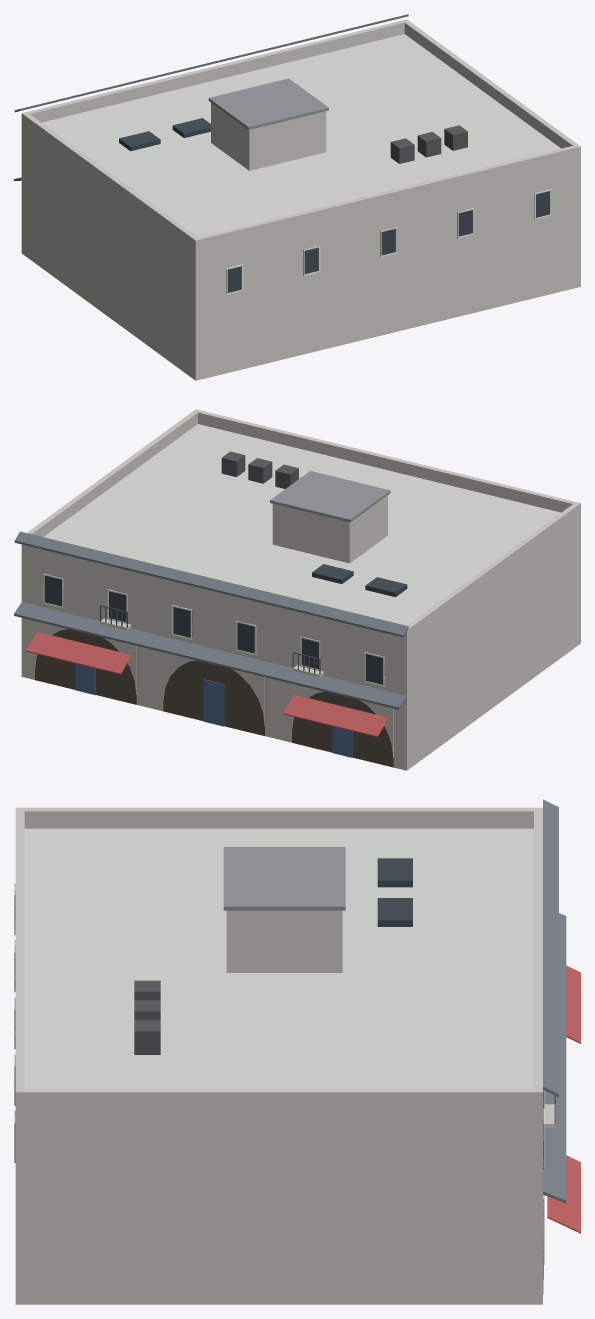
File: ca_mainstreet2.glb
The picture shows the model from 3 angles, top to bottom: view 1: azimuth 30°, elevation 25°; view 2: azimuth 150°, elevation 25°; view 3: azimuth 270°, elevation 25°; orthographic projection. The views are drawn at different scales.
Visible parts, largest first — view 1: ca_mainstreet2; view 2: ca_mainstreet2; view 3: ca_mainstreet2.
Boxes of the visible parts, x1,y1,x2,y2 form: ca_mainstreet2: (14,14,580,380); ca_mainstreet2: (14,409,580,770); ca_mainstreet2: (14,799,580,1304).
Bounding box in the file's own units: 23.2 × 9.9 × 19.36.
